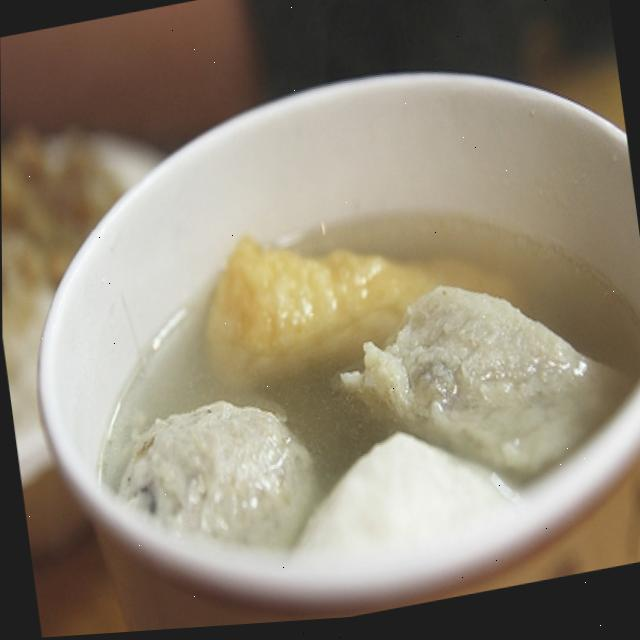熟制海鲜: (43, 77, 640, 638)
